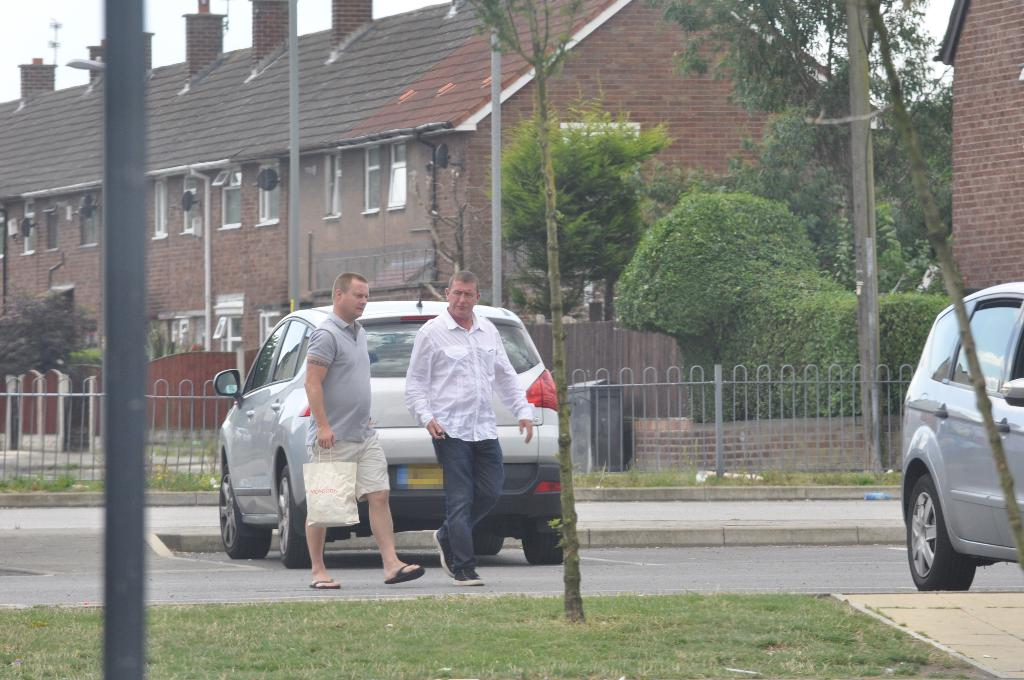cars: (212, 248, 574, 565), (902, 281, 1023, 589)
